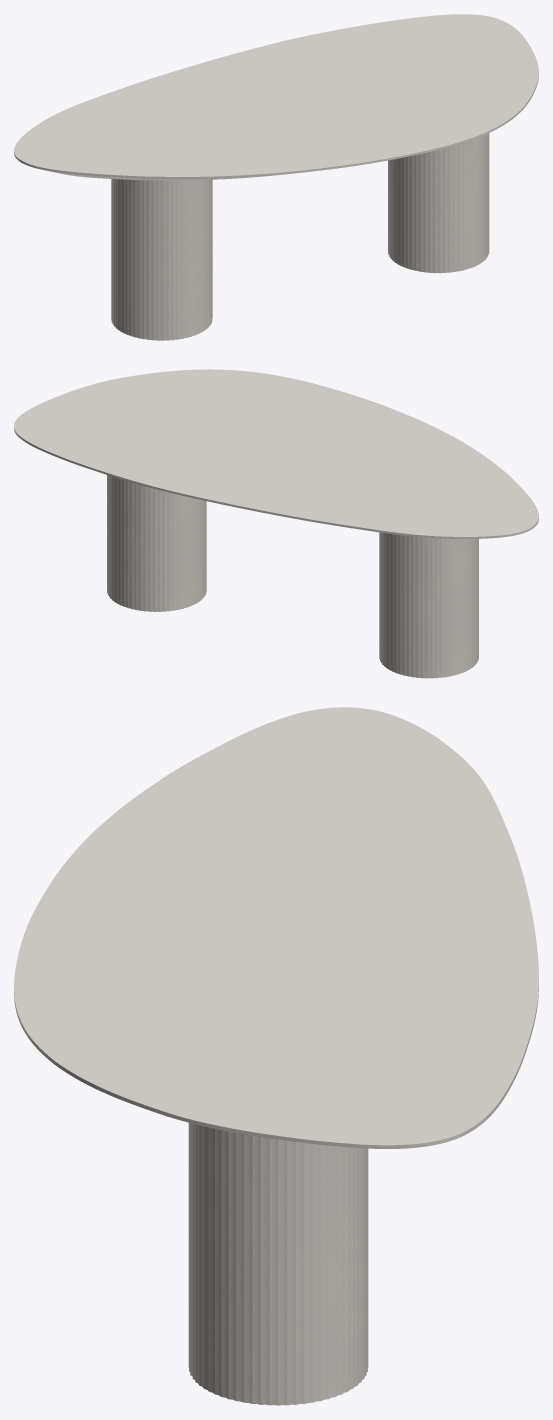
The model's file is pearlwhite_pebbletop_facet_ripplesecond.glb.
3 views of the same model, one above another, from view 1: azimuth 30°, elevation 25°; view 2: azimuth 150°, elevation 25°; view 3: azimuth 270°, elevation 25° (orthographic). The views are drawn at different scales.
Visible parts, largest first — view 1: facet_pebbletop, ripplesecond; view 2: facet_pebbletop, ripplesecond; view 3: facet_pebbletop, ripplesecond.
Part boxes in pixels (x1,y1,x2,y2): facet_pebbletop: [14, 14, 538, 180]; ripplesecond: [111, 133, 489, 340]; facet_pebbletop: [14, 369, 538, 538]; ripplesecond: [107, 475, 478, 678]; facet_pebbletop: [14, 707, 538, 1148]; ripplesecond: [188, 1123, 368, 1405].
Size of the model in its own units: 7.5 by 2.5 by 3.8.
Materials: 1 (1 with a texture image).
